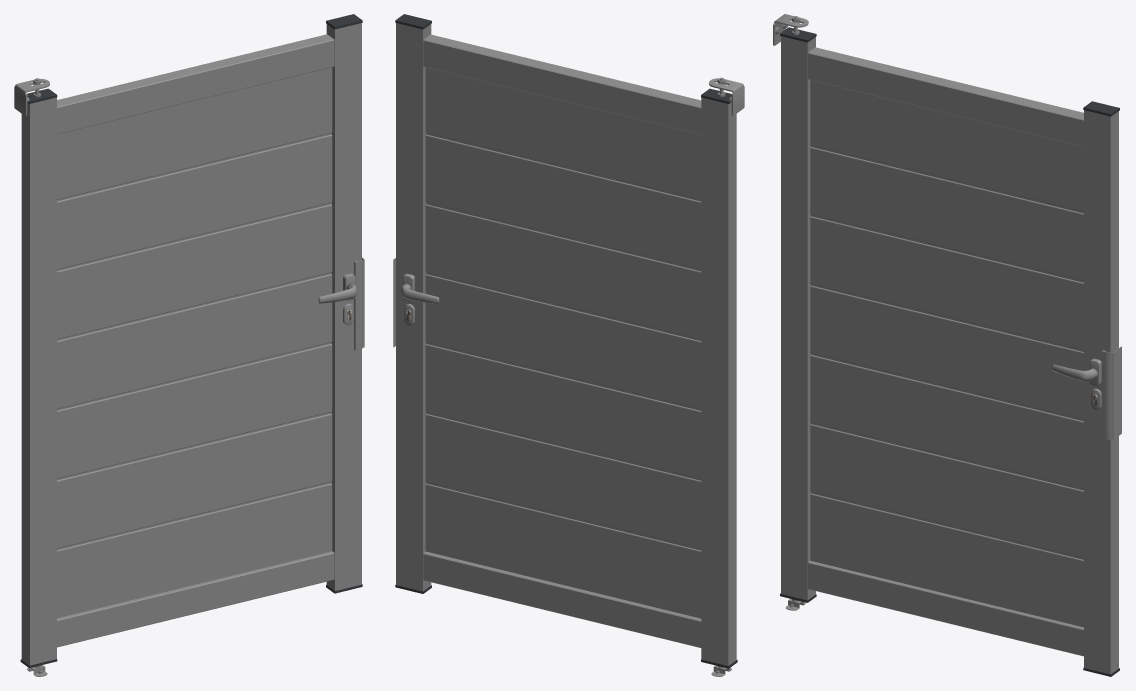
3 views of the same model, side by side, from view 1: azimuth 30°, elevation 25°; view 2: azimuth 150°, elevation 25°; view 3: azimuth 330°, elevation 25° (orthographic).
Parts seen in each view (by area): view 1: lamina (×7), Shape107412643, montante (×2), Shape107412638, Shape107412637, Rectangle057; view 2: lamina (×7), Shape107412643, montante (×2), Shape107412638, Rectangle057; view 3: lamina (×7), montante (×2), Shape107412638, Shape107412643, Shape107412637.
Part boxes in pixels (x1,y1,x2,y2): lamina (×7): [57, 67, 332, 617]; Shape107412643: [21, 97, 56, 665]; montante (×2): [57, 34, 334, 647]; Shape107412638: [326, 23, 361, 590]; Shape107412637: [354, 257, 364, 350]; Rectangle057: [14, 78, 49, 116]; lamina (×7): [425, 67, 701, 618]; Shape107412643: [701, 97, 736, 665]; montante (×2): [423, 34, 701, 647]; Shape107412638: [396, 23, 431, 591]; Rectangle057: [709, 78, 744, 115]; lamina (×7): [810, 80, 1083, 627]; montante (×2): [808, 47, 1083, 656]; Shape107412638: [1084, 110, 1118, 674]; Shape107412643: [781, 36, 815, 600]; Shape107412637: [1101, 346, 1121, 439].
Bounding box in the file's own units: 1015 × 1688 × 152.
Materials: 7 (4 with a texture image).
